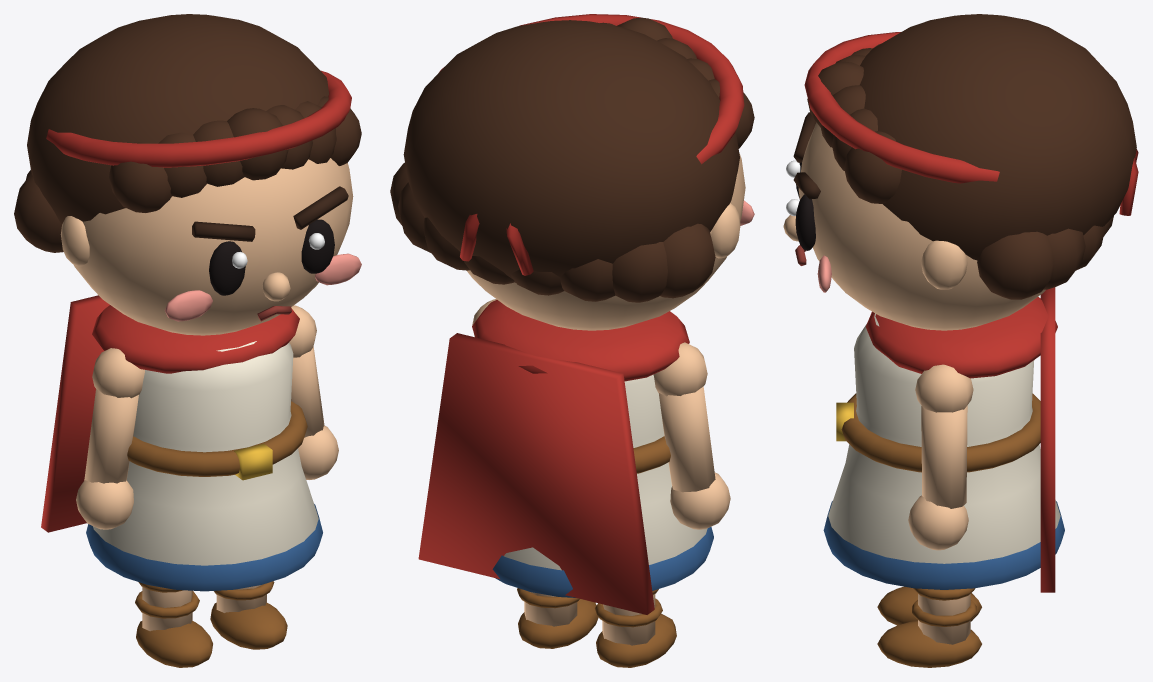
Rendered from teseu.glb.
The picture shows the model from 3 angles, left to right: view 1: azimuth 30°, elevation 25°; view 2: azimuth 150°, elevation 25°; view 3: azimuth 270°, elevation 25°; orthographic projection. The views are drawn at different scales.
Visible parts, largest first — view 1: CabecaMalha, Corpo, BracoDMalha, PernaDMalha, BracoEMalha, PernaEMalha; view 2: CabecaMalha, Corpo, BracoDMalha, PernaDMalha, PernaEMalha; view 3: CabecaMalha, Corpo, BracoEMalha, PernaEMalha, PernaDMalha.
Part boxes in pixels (x1,y1,x2,y2): CabecaMalha: (14,14,361,335); Corpo: (41,295,322,591); BracoDMalha: (76,348,144,529); PernaDMalha: (135,582,212,667); BracoEMalha: (289,305,338,479); PernaEMalha: (210,581,287,649); CabecaMalha: (390,14,754,330); Corpo: (418,300,713,614); BracoDMalha: (653,342,730,529); PernaDMalha: (595,589,676,667); PernaEMalha: (517,588,598,648); CabecaMalha: (783,14,1138,330); Corpo: (823,287,1064,592); BracoEMalha: (908,364,973,550); PernaEMalha: (877,588,981,667); PernaDMalha: (877,586,981,625).
Bounding box in the file's own units: 0.5992 × 1.16 × 0.6089.
